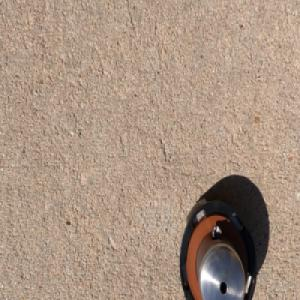FuelCap: (177, 192, 259, 300)
